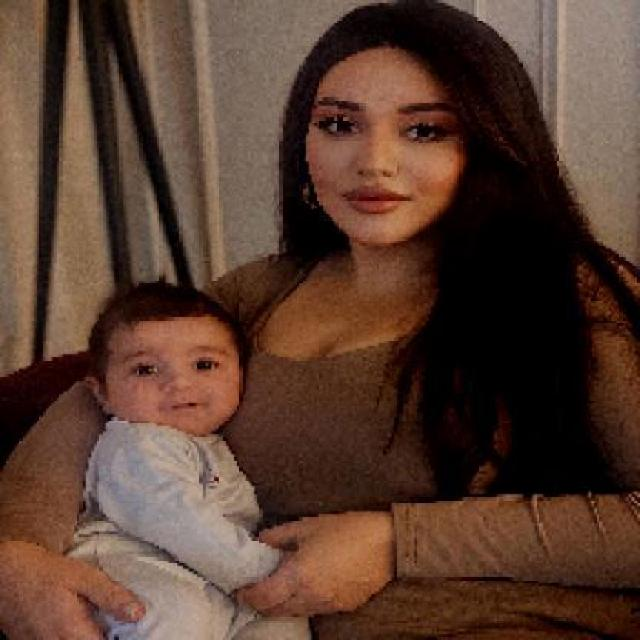child: (63, 280, 317, 637)
